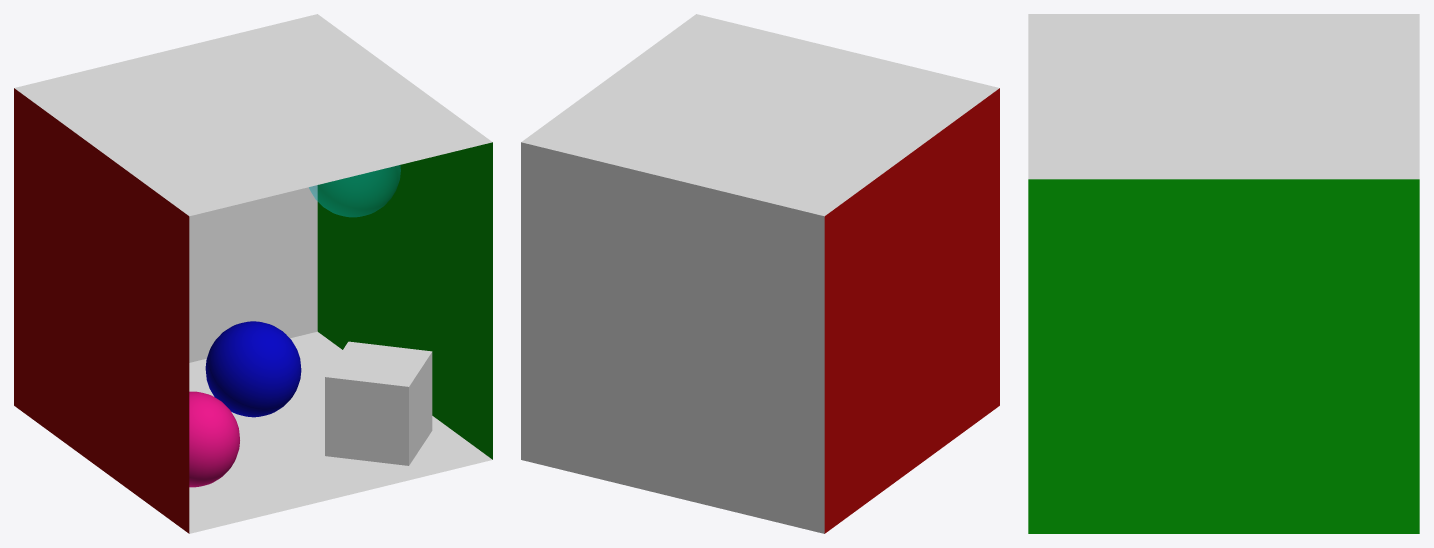
File: cornellbox_anims.glb
3 views of the same model, side by side, from view 1: azimuth 30°, elevation 25°; view 2: azimuth 150°, elevation 25°; view 3: azimuth 270°, elevation 25° (orthographic). The views are drawn at different scales.
Visible parts, largest first — view 1: Red Wall, Ceiling, Green Wall, Floor, Back Wall, Small Cube, Sphere, Sphere.001, Sphere.002; view 2: Back Wall, Red Wall, Ceiling; view 3: Green Wall, Ceiling.
Part boxes in pixels (bbox=[...]): Red Wall: bbox=[14, 88, 189, 533]; Ceiling: bbox=[14, 14, 492, 216]; Green Wall: bbox=[317, 142, 492, 459]; Floor: bbox=[189, 331, 492, 533]; Back Wall: bbox=[189, 185, 317, 362]; Small Cube: bbox=[325, 341, 432, 465]; Sphere: bbox=[205, 321, 301, 417]; Sphere.001: bbox=[189, 391, 239, 487]; Sphere.002: bbox=[309, 165, 400, 216]; Back Wall: bbox=[521, 142, 824, 533]; Red Wall: bbox=[824, 88, 999, 533]; Ceiling: bbox=[521, 14, 999, 216]; Green Wall: bbox=[1028, 179, 1419, 533]; Ceiling: bbox=[1028, 14, 1419, 179].
Size of the model in its own units: 10 by 10 by 10.
